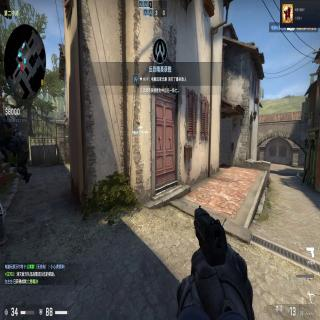CT-Body: (11, 128, 31, 183)
